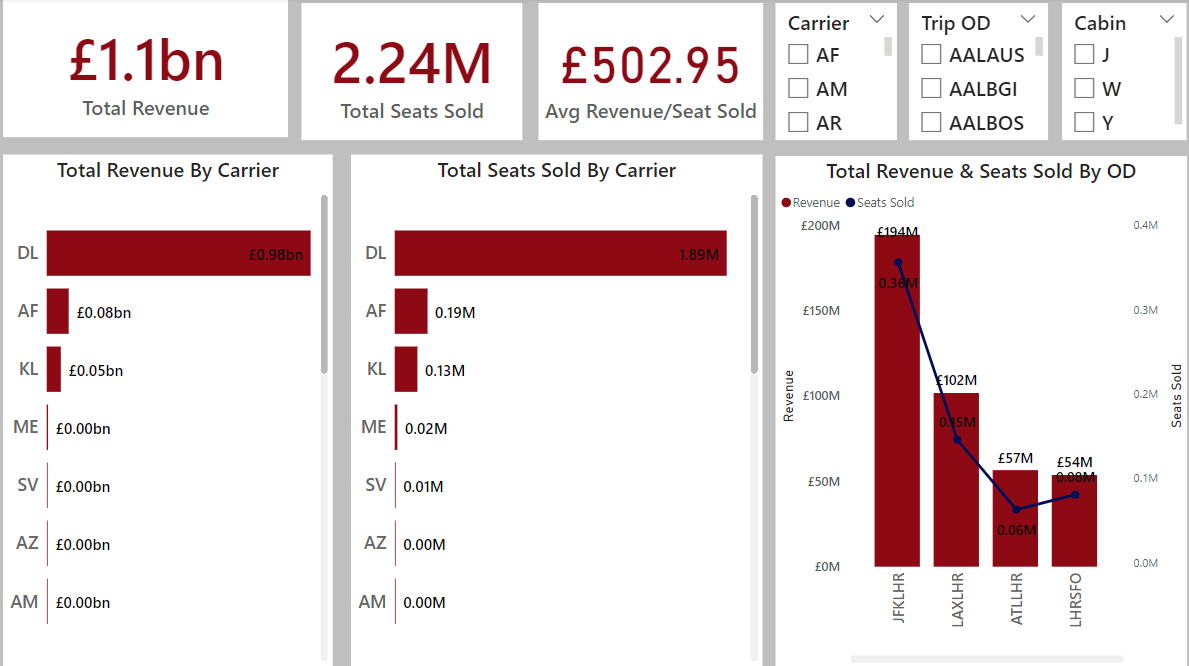

What the dashboard file says about the page in this screenshot:
{"tool":"powerbi","page":{"name":"High-Level Overview","canvas":[1280,720],"ordinal":0},"visuals":[{"type":"card","fields":{"Values":["Sum(Dataset.RevenueGBP)"]},"box":[13.2,3.8,302.1,145.4],"z":0},{"type":"card","fields":{"Values":["Sum(Dataset.SeatsSoldTicketed)"]},"box":[328.5,5.7,234.1,145.4],"z":1000},{"type":"card","fields":{"Values":["Dataset.Avg Revenue per Seat"]},"box":[579.6,5.7,237.9,145.4],"z":2000},{"type":"slicer","fields":{"Values":["Dataset.Carrier"]},"box":[830.7,5.7,128.4,145.4],"z":3000},{"type":"slicer","fields":{"Values":["Dataset.TripNDOD"]},"box":[972.3,5.7,147.3,145.4],"z":4000},{"type":"barChart","title":"Total Revenue By Carrier","fields":{"Category":["Dataset.Carrier"],"Y":["Sum(Dataset.RevenueGBP)"]},"box":[13.2,166.1,349.3,541.8],"z":5000},{"type":"barChart","title":"Total Seats Sold By Carrier","fields":{"Category":["Dataset.Carrier"],"Y":["Sum(Dataset.SeatsSoldTicketed)"]},"box":[381.4,166.1,436.1,541.8],"z":6000},{"type":"slicer","fields":{"Values":["Dataset.Cabin"]},"box":[1134.6,5.7,132.2,145.4],"z":7000},{"type":"lineStackedColumnComboChart","title":"Total Revenue & Seats Sold By OD","fields":{"Category":["Dataset.TripNDOD"],"Y":["Sum(Dataset.RevenueGBP)"],"Y2":["Sum(Dataset.SeatsSoldTicketed)"]},"box":[830.7,168,436.1,541.8],"z":8000}]}

Visuals, with their boxes in screenshot pixels (x1, y1, x2, y2), scaled from the page's 1280x720 canvas onto the 1189x666 screenshot:
card - Sum(Dataset.RevenueGBP): (12,4,293,138)
card - Sum(Dataset.SeatsSoldTicketed): (305,5,523,140)
card - Dataset.Avg Revenue per Seat: (538,5,759,140)
slicer - Dataset.Carrier: (772,5,891,140)
slicer - Dataset.TripNDOD: (903,5,1040,140)
"Total Revenue By Carrier" barChart: (12,154,337,655)
"Total Seats Sold By Carrier" barChart: (354,154,759,655)
slicer - Dataset.Cabin: (1054,5,1177,140)
"Total Revenue & Seats Sold By OD" lineStackedColumnComboChart: (772,155,1177,657)
